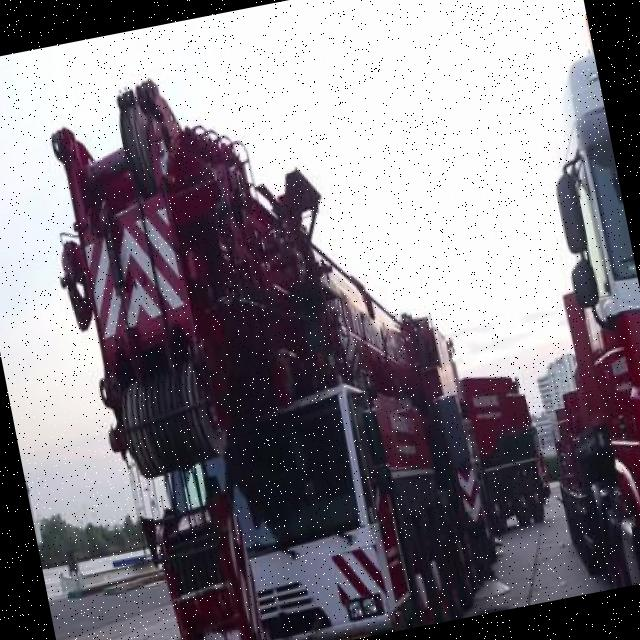Mobile Crane: (29, 33, 501, 640)
